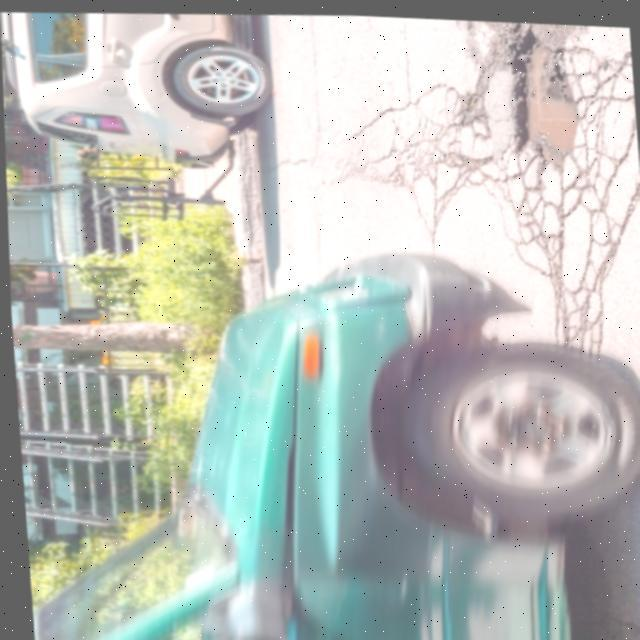pothole: (492, 19, 594, 164)
